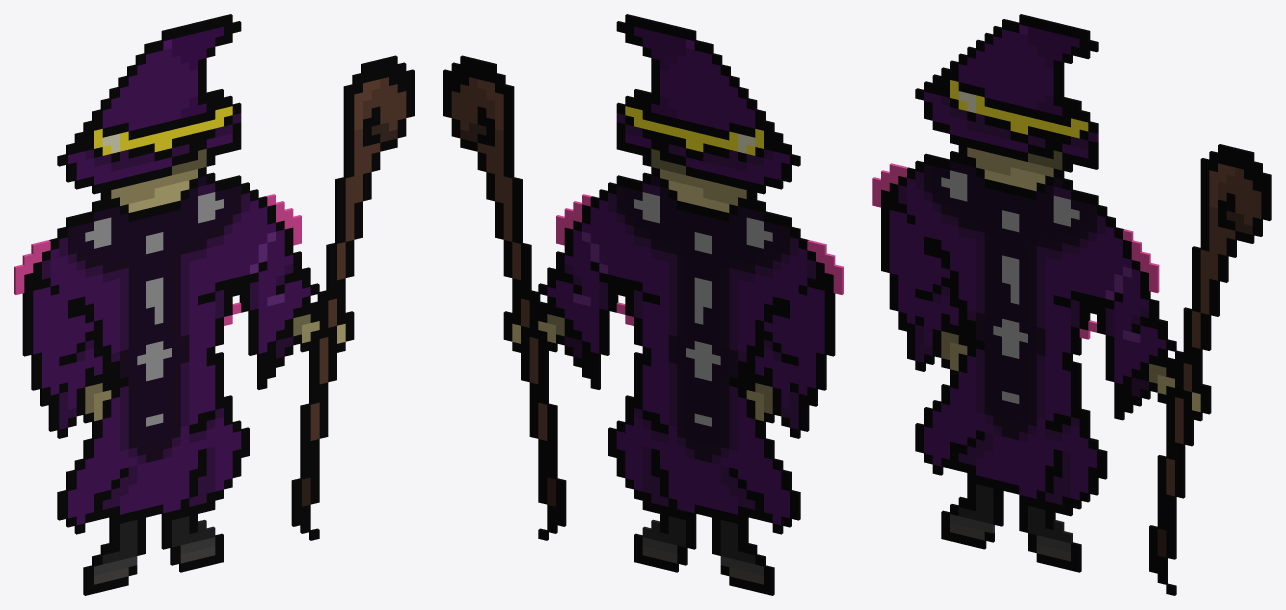
The model's file is Mage.fbx.
3 views of the same model, side by side, from view 1: azimuth 30°, elevation 25°; view 2: azimuth 150°, elevation 25°; view 3: azimuth 330°, elevation 25° (orthographic).
Parts seen in each view (by area): view 1: Curve; view 2: Curve; view 3: Curve.
Part boxes in pixels (<box>): Curve: <box>14,14,414,595</box>; Curve: <box>443,14,843,595</box>; Curve: <box>872,14,1271,595</box>.
Bounding box in the file's own units: 38.95 × 50.79 × 0.3.
